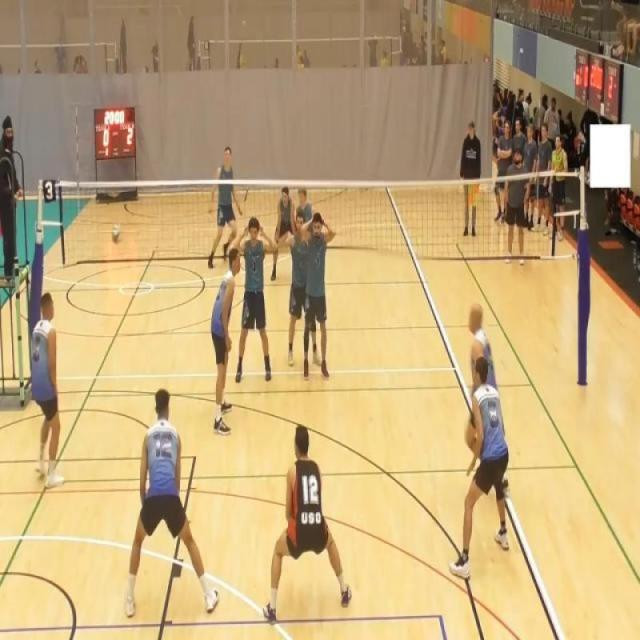volleyball: (111, 223, 122, 244), (242, 20, 247, 28)
